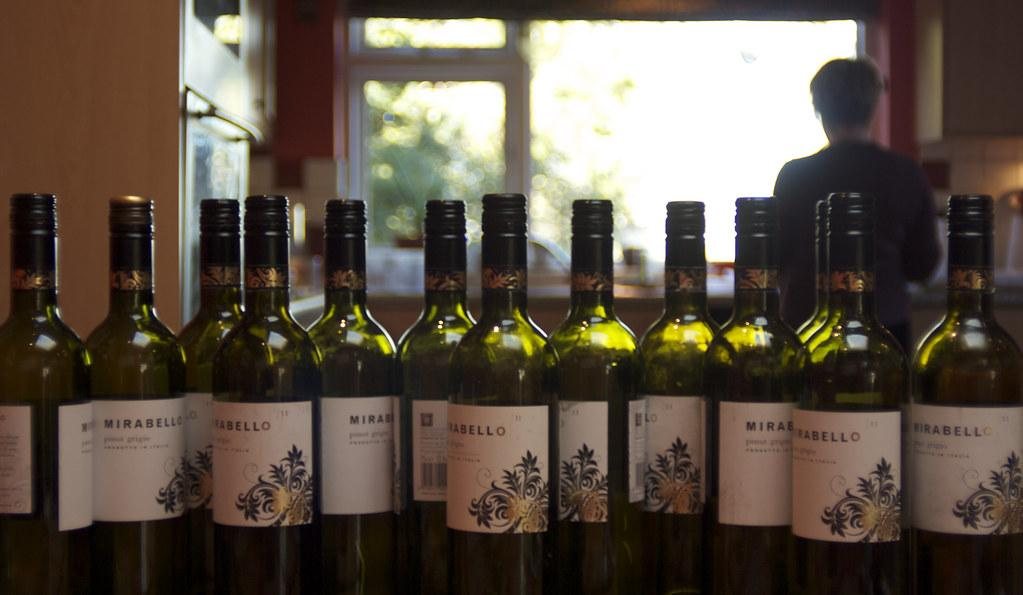bottle: (791, 191, 911, 595), (909, 194, 1023, 595), (446, 193, 558, 595), (211, 194, 323, 595), (84, 195, 189, 594), (704, 197, 806, 594), (545, 199, 646, 594), (1, 192, 94, 595), (305, 198, 399, 595), (395, 199, 478, 594), (638, 201, 721, 594), (177, 198, 246, 594)
